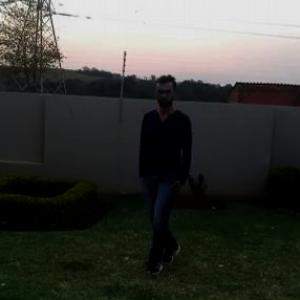follow: (138, 74, 202, 270)
